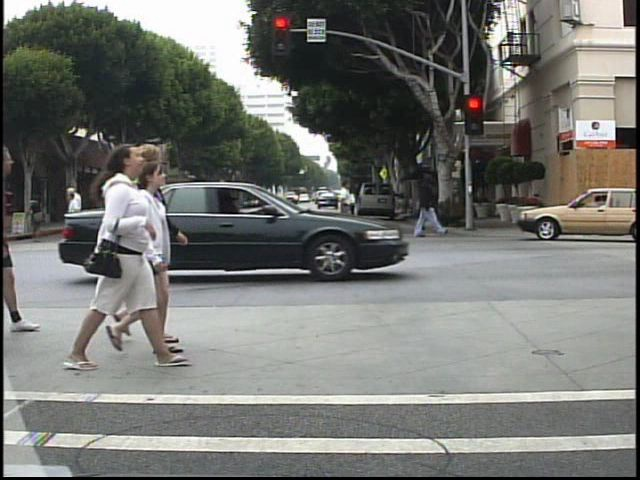person: (75, 140, 171, 378), (123, 159, 190, 366), (136, 143, 190, 351), (409, 167, 445, 240), (334, 177, 361, 241), (161, 187, 185, 249), (65, 190, 90, 246), (214, 181, 236, 239), (64, 185, 83, 247), (345, 187, 360, 223)
